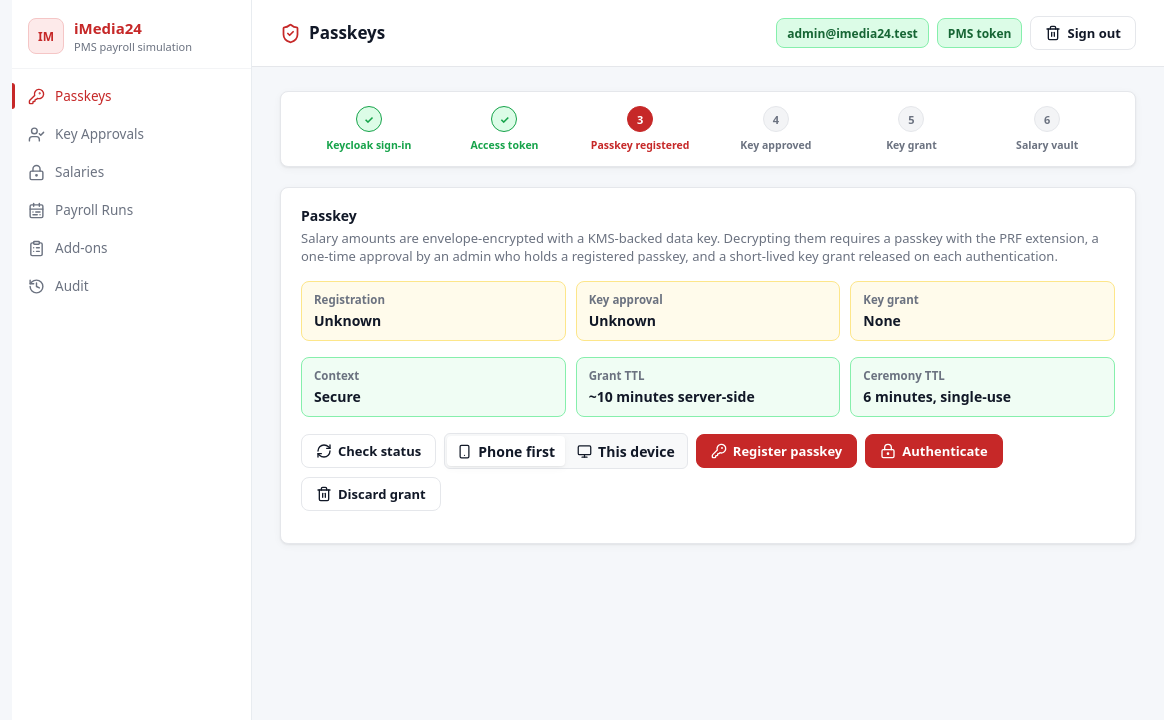
Scenario: PMS real API app › gets the PMS token from Better Auth and checks passkey registration through the real endpoint
Expected: the text "PMS token" is shown, left=937, top=18, right=1022, bottom=48
Expected: the heading "Passkeys" is shown, left=309, top=23, right=385, bottom=43
Click the button "Check status" at (369, 451), box left=301, top=434, right=436, bottom=468
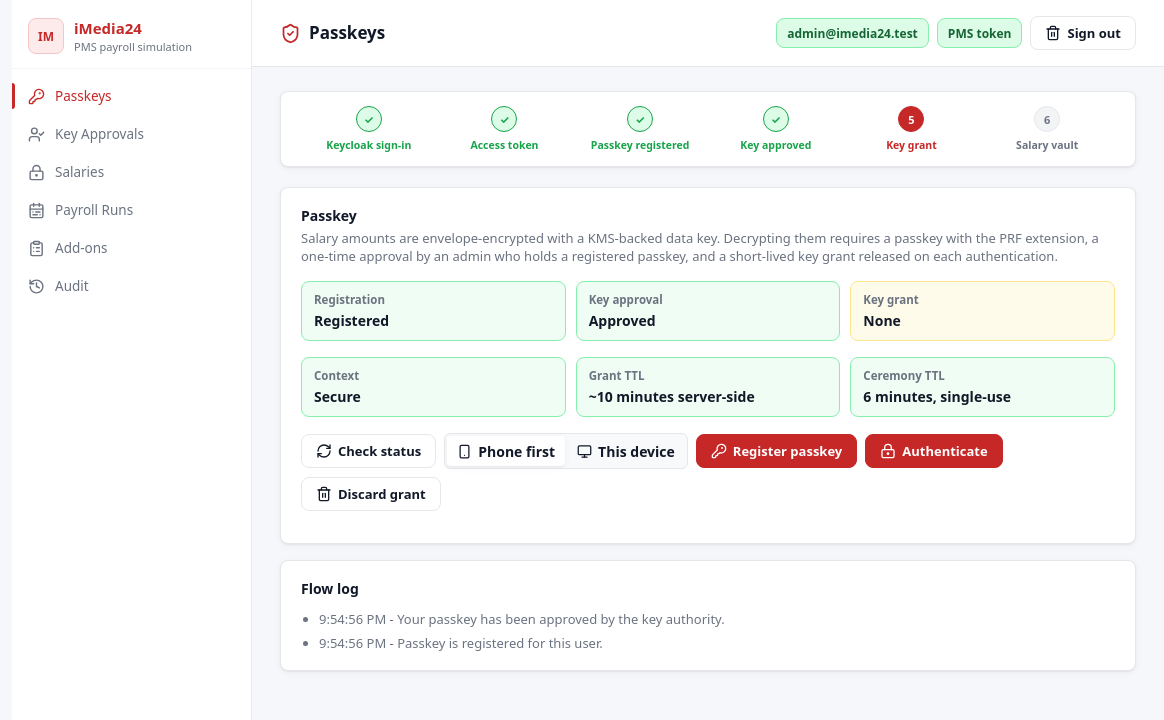
Result: the text "Registered" is shown at left=314, top=311, right=389, bottom=330
